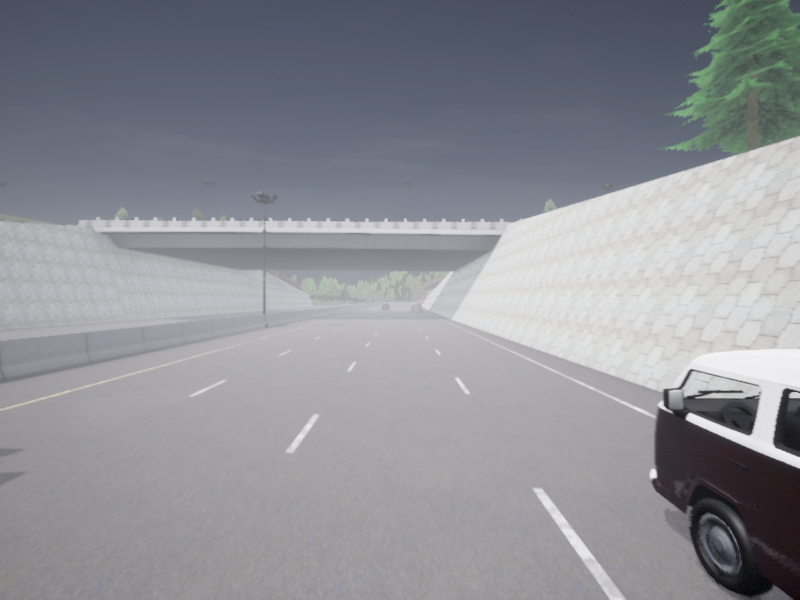vehicle: (651, 349, 799, 599), (411, 304, 421, 311), (382, 304, 389, 309)
